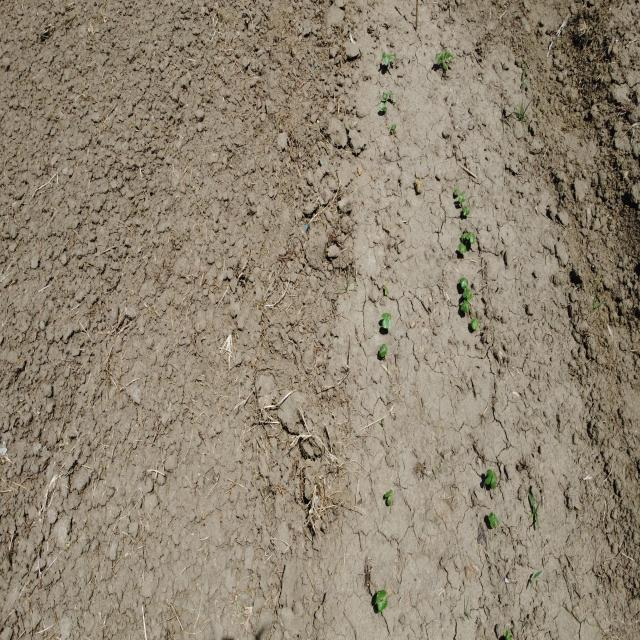seedling: (376, 590, 387, 604), (378, 598, 388, 613), (488, 512, 496, 529), (485, 469, 492, 485), (491, 471, 497, 488), (492, 511, 499, 525), (382, 319, 391, 329), (461, 278, 468, 289), (463, 287, 470, 298), (384, 54, 390, 66), (381, 345, 387, 357), (385, 489, 393, 498), (437, 54, 445, 63), (379, 344, 386, 354), (467, 292, 473, 303), (461, 302, 467, 313), (381, 313, 391, 319), (464, 300, 469, 312), (380, 102, 387, 110), (459, 195, 466, 203), (463, 208, 470, 216), (471, 322, 478, 330), (470, 233, 475, 244), (461, 243, 467, 252), (471, 317, 477, 326), (381, 52, 386, 62), (458, 244, 463, 254), (459, 277, 466, 284), (382, 92, 387, 100), (387, 496, 391, 505), (466, 232, 471, 239), (445, 50, 449, 58), (443, 62, 447, 70), (391, 55, 396, 61), (462, 206, 467, 211), (393, 123, 396, 131), (447, 51, 451, 57)
